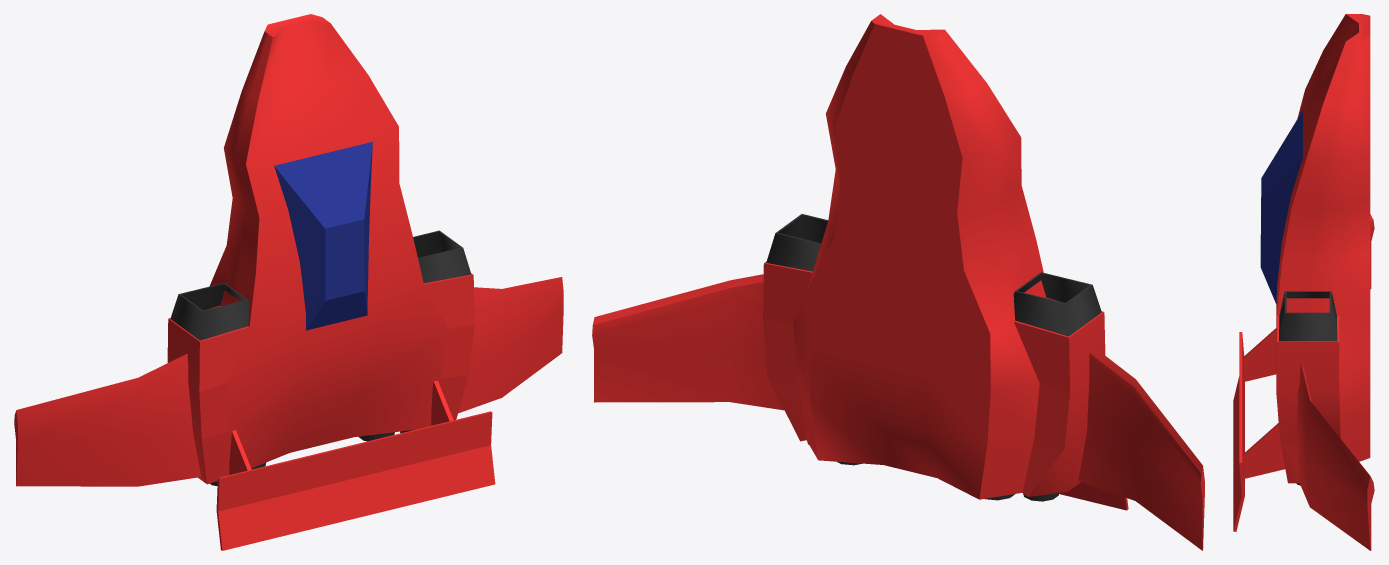
File: vehicule01ZupFBX.FBX
The picture shows the model from 3 angles, left to right: view 1: azimuth 30°, elevation 25°; view 2: azimuth 150°, elevation 25°; view 3: azimuth 270°, elevation 25°; orthographic projection. The views are drawn at different scales.
Parts seen in each view (by area): view 1: car, Box001, Line001, Box004, Tube005, Tube006; view 2: car, Box001, Tube005, Tube006, Line001; view 3: car, Box001, Box004, Tube006, Line001, Box003, Box002.
Part boxes in pixels (bbox=[...]): car: bbox=[167, 14, 474, 484]; Box001: bbox=[14, 277, 563, 486]; Line001: bbox=[216, 411, 495, 550]; Box004: bbox=[274, 142, 372, 330]; Tube005: bbox=[170, 283, 249, 340]; Tube006: bbox=[413, 230, 471, 283]; car: bbox=[763, 14, 1105, 499]; Box001: bbox=[592, 274, 1204, 550]; Tube005: bbox=[1013, 272, 1101, 336]; Tube006: bbox=[766, 214, 828, 271]; Line001: bbox=[1059, 482, 1128, 510]; car: bbox=[1276, 14, 1370, 483]; Box001: bbox=[1297, 214, 1374, 550]; Box004: bbox=[1260, 110, 1302, 304]; Tube006: bbox=[1279, 291, 1337, 341]; Line001: bbox=[1233, 332, 1244, 531]; Box003: bbox=[1243, 423, 1285, 478]; Box002: bbox=[1243, 328, 1276, 381].
Bounding box in the file's own units: 20 × 15.67 × 4.56.
